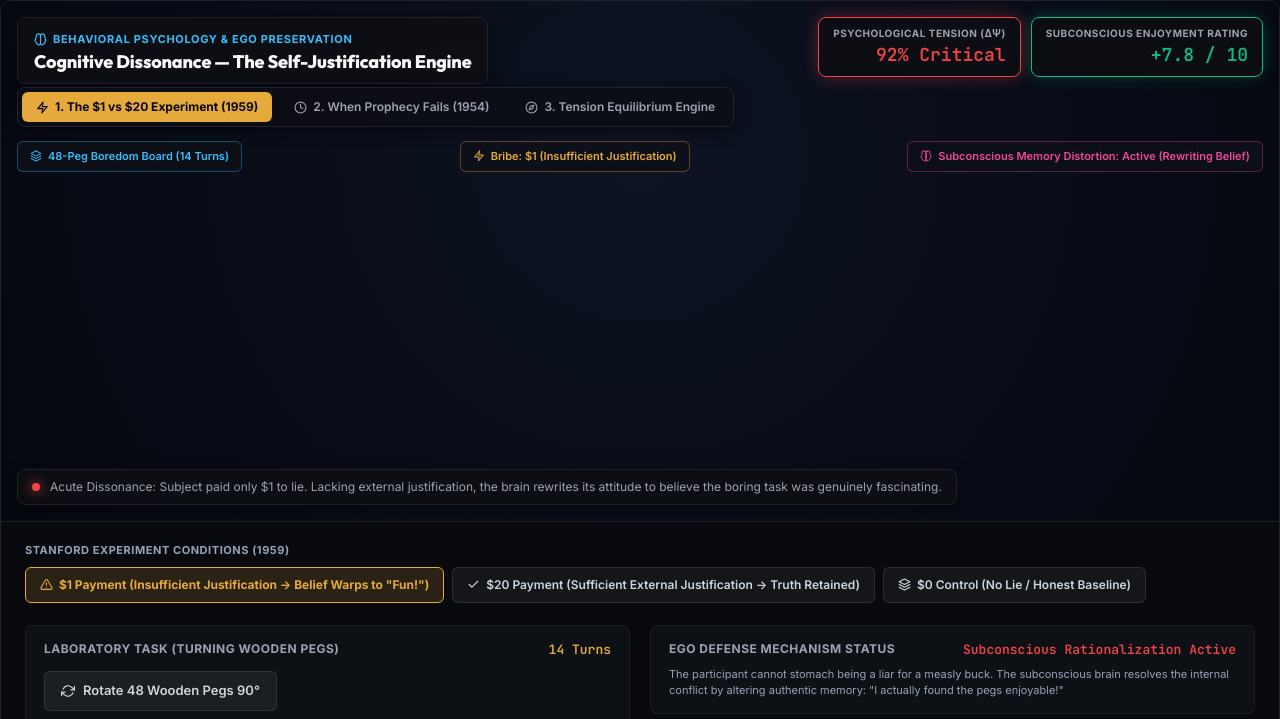
Test: CognitiveDissonance3DLab › switches between experimental conditions in Mode 1 (Festinger 1959)
Expected: the text "92% Critical" is shown, [876, 41, 1006, 68]
Expected: the text "+7.8 / 10" is shown, [1151, 41, 1248, 68]
Click the button "$20 Payment". click: (664, 584)
box: [452, 566, 875, 602]
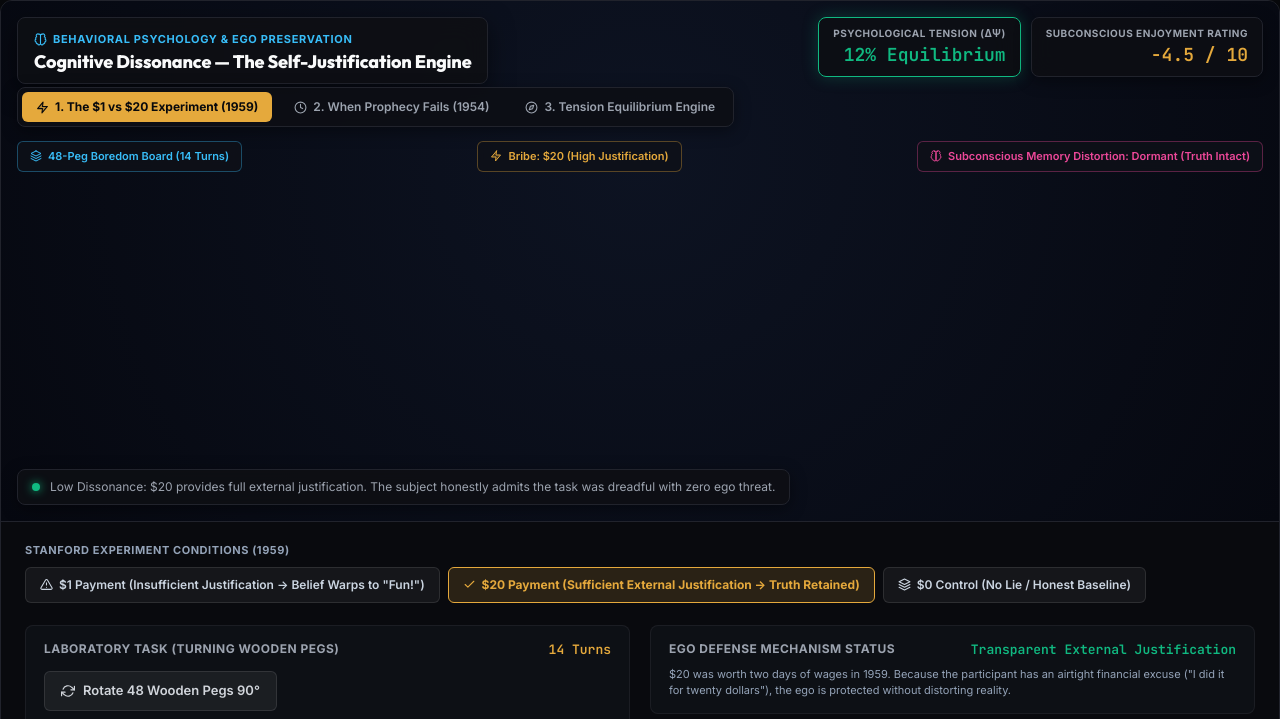
Now the text "12% Equilibrium" is shown, box [844, 41, 1006, 68]
Now the text "-4.5 / 10" is shown, box [1151, 41, 1248, 68]
# Switch to Control ($0)
Click the button "$0 Control (No Lie / Honest Baseline)". click: (1014, 584)
box: [883, 566, 1146, 602]
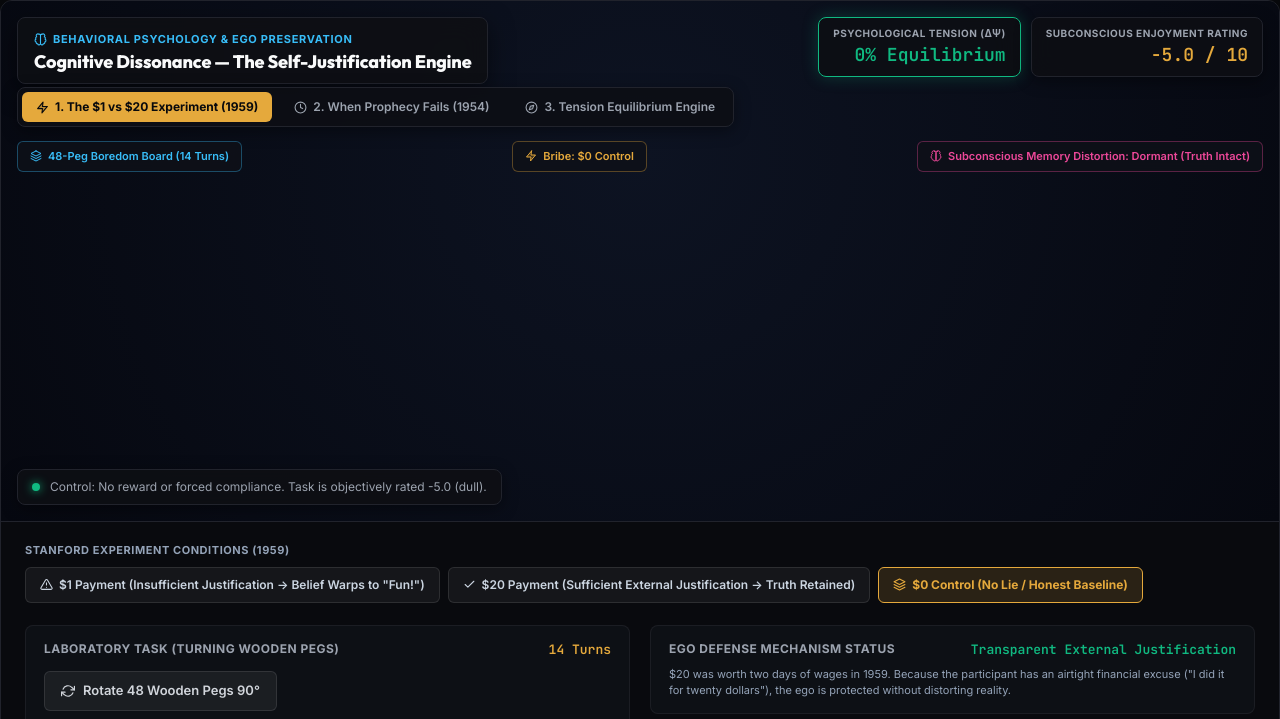
Now the text "0% Equilibrium" is shown, box [854, 41, 1006, 68]
Now the text "-5.0 / 10" is shown, box [1151, 41, 1248, 68]
